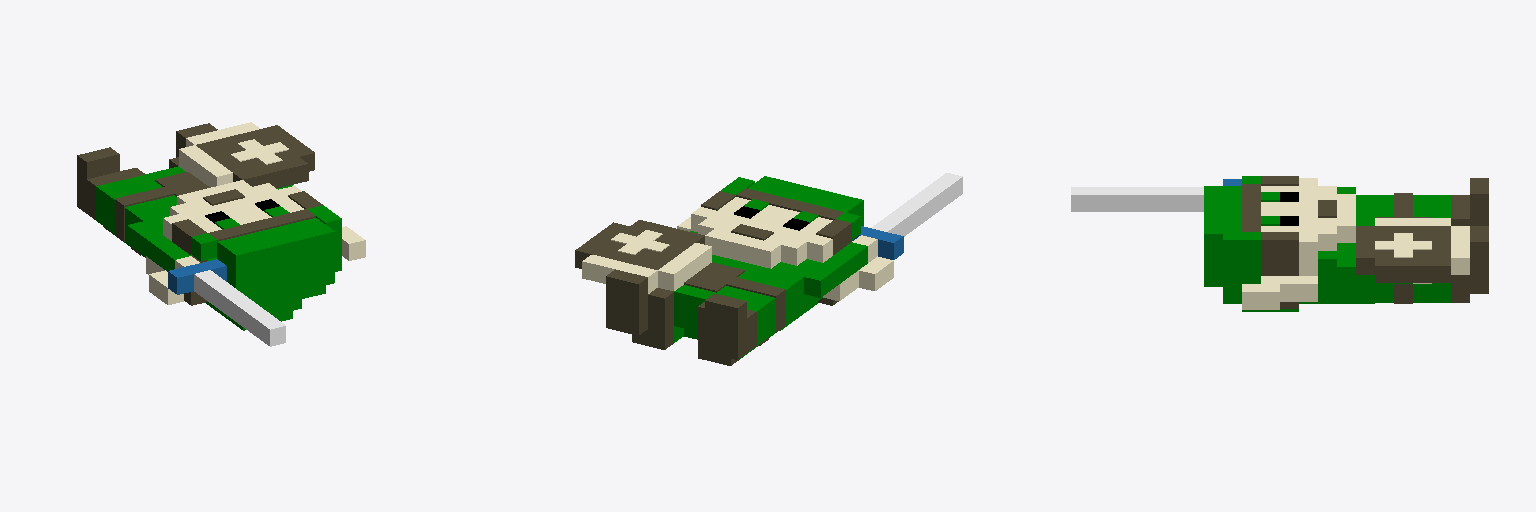
The model's file is Link_Settled.obj.
The picture shows the model from 3 angles: view 1: azimuth 30°, elevation 25°; view 2: azimuth 150°, elevation 25°; view 3: azimuth 270°, elevation 25°; orthographic projection.
Visible parts, largest first — view 1: Object.1; view 2: Object.1; view 3: Object.1.
Part boxes in pixels (bbox=[...]): Object.1: bbox=[77, 122, 365, 346]; Object.1: bbox=[575, 173, 962, 365]; Object.1: bbox=[1071, 176, 1488, 311].
Size of the model in its own units: 13 by 5.1 by 22.